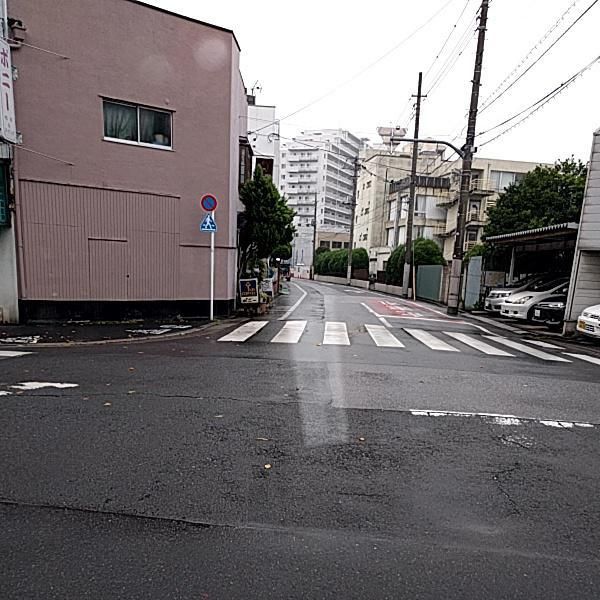D00: (488, 452, 521, 516)
D10: (23, 390, 254, 413)
D44: (402, 393, 594, 455)
